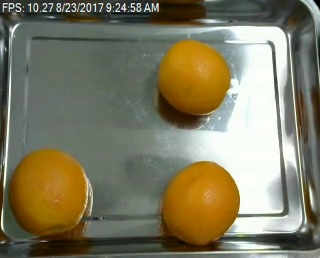Orange: (10, 147, 89, 234), (161, 161, 241, 245), (157, 39, 230, 115)
